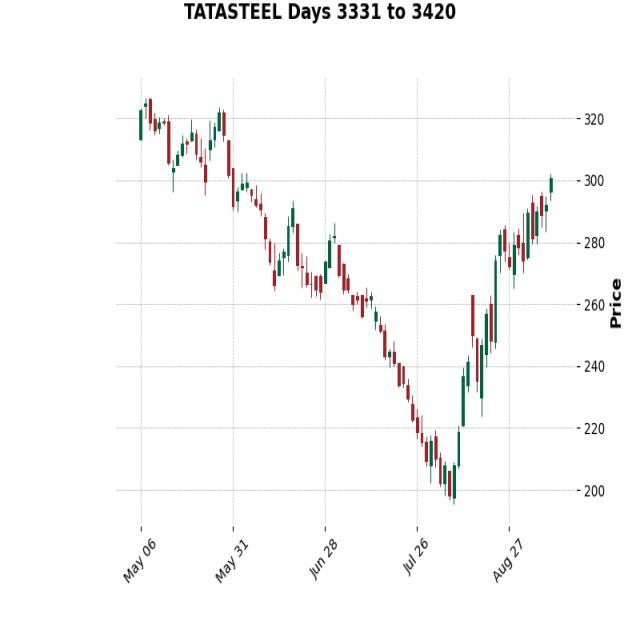Triple Bottom Reversal: (373, 308, 542, 523)
